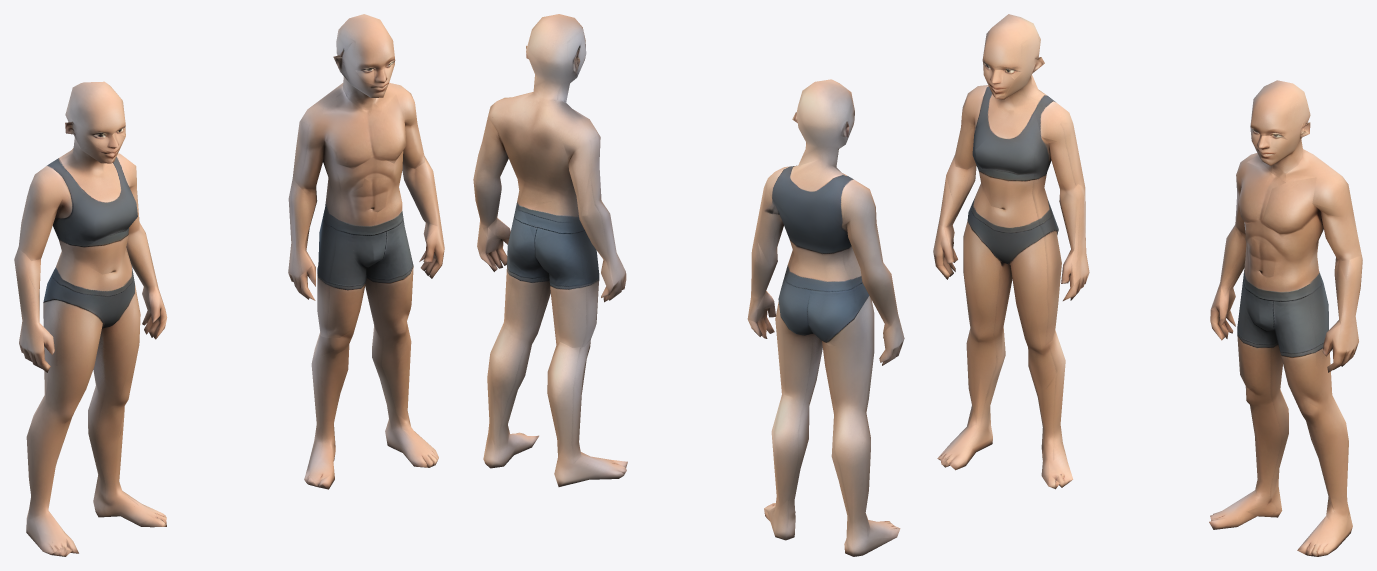
The model's file is base_basic_shaded.glb.
3 renders of one model, left to right at view 1: azimuth 30°, elevation 25°; view 2: azimuth 150°, elevation 25°; view 3: azimuth 330°, elevation 25°, orthographic.
Parts seen in each view (by area): view 1: model; view 2: model; view 3: model.
Boxes of the visible parts, <box> form: model: <box>14,14,444,556</box>; model: <box>473,14,904,556</box>; model: <box>933,14,1362,556</box>.
Size of the model in its own units: 1.68 by 1.73 by 0.3026.
1 material, 1 textured.
